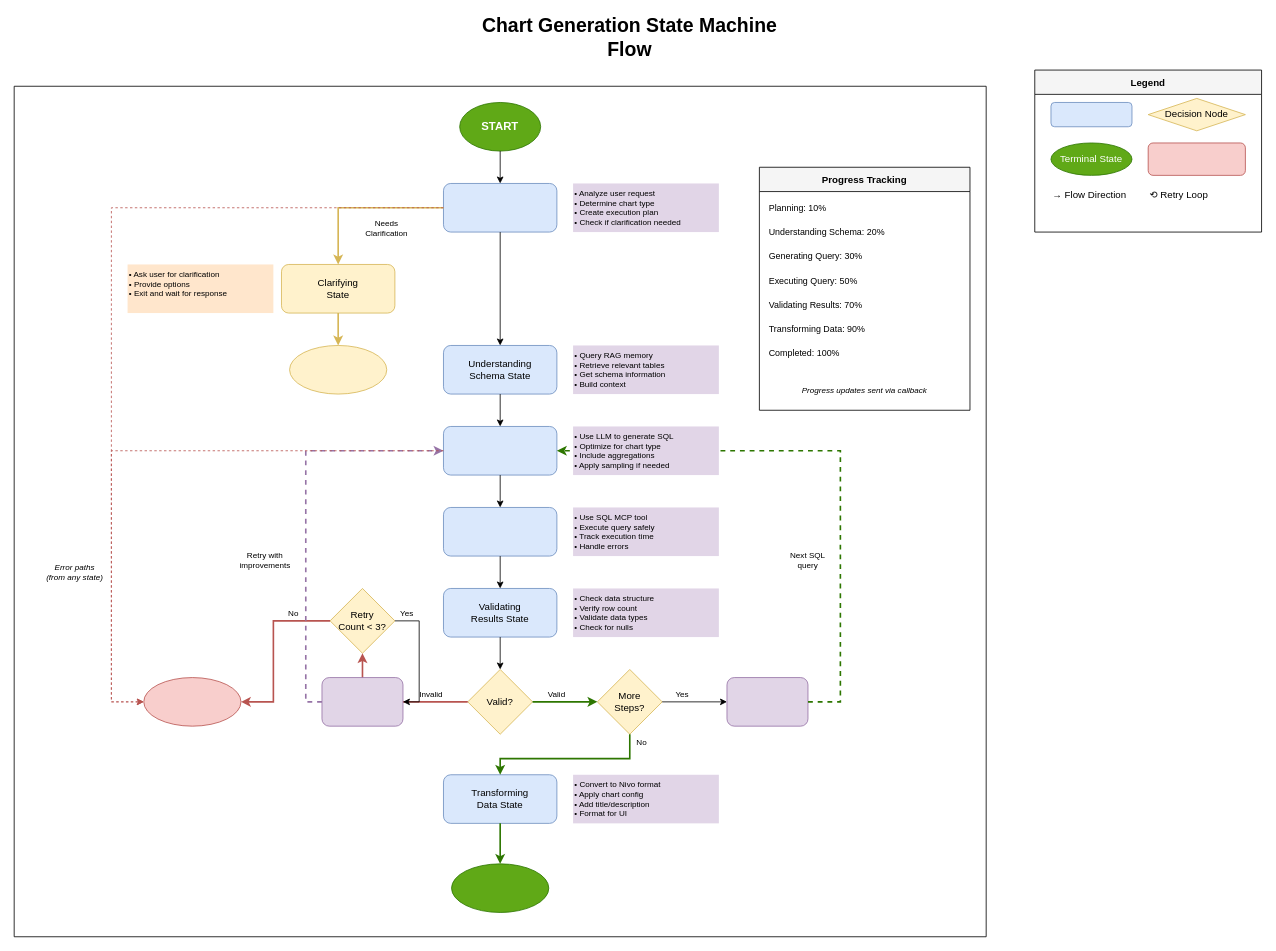
Image size: 1276x951. Some labels were removed from this diagram. Each missing label, with the centre of its shape:
"CLARIFICATION NEEDED" goes at point 338,369.
"Error State" goes at point 1196,158.
"Executing Query State" goes at point 500,531.
"FAILED" goes at point 192,701.
"Generating Query State" goes at point 500,450.
"Next Step Updater" goes at point 767,701.
"Planning State" goes at point 500,207.
"Retry Updater" goes at point 362,701.
"State Node" goes at point 1091,114.
"SUCCESS (Chart Ready)" goes at point 500,887.
